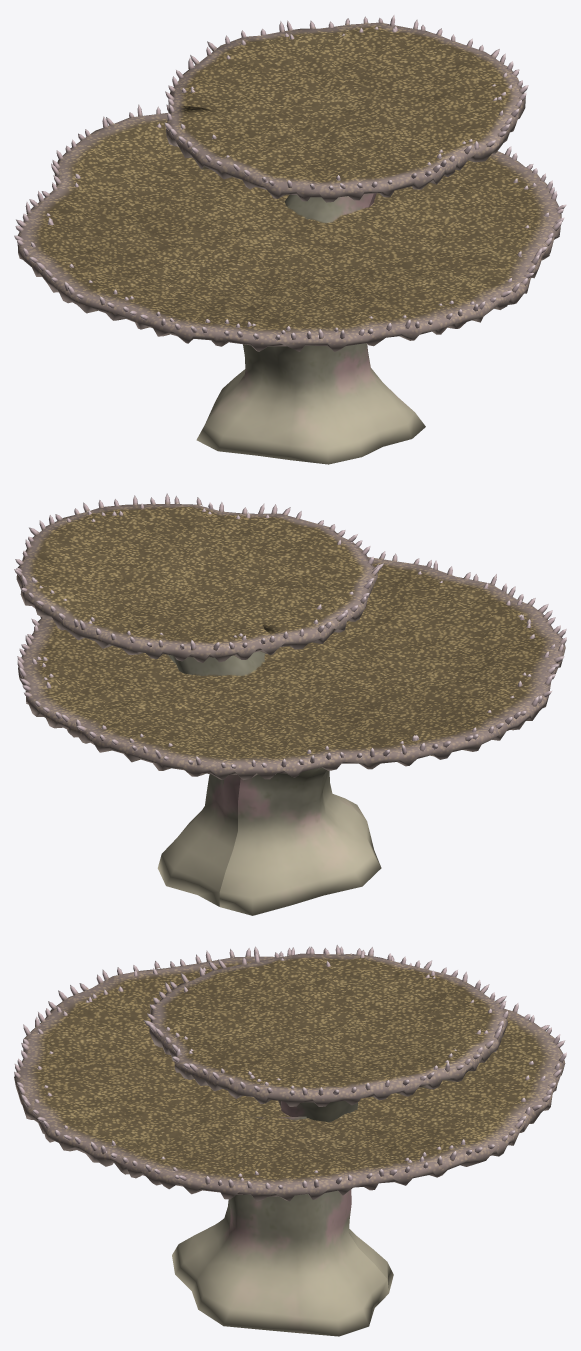
Rendered from Coral_Table_B.gltf.
3 views of the same model, one above another, from view 1: azimuth 30°, elevation 25°; view 2: azimuth 150°, elevation 25°; view 3: azimuth 270°, elevation 25° (orthographic).
Visible parts, largest first — view 1: Coral_Table_B; view 2: Coral_Table_B; view 3: Coral_Table_B.
Part boxes in pixels (left/top/right/bottom): Coral_Table_B: left=14, top=15, right=566, bottom=464; Coral_Table_B: left=14, top=493, right=566, bottom=915; Coral_Table_B: left=14, top=945, right=566, bottom=1336.
Bounding box in the file's own units: 1.01 × 0.6428 × 1.02.
Materials: 1 (1 with a texture image).
